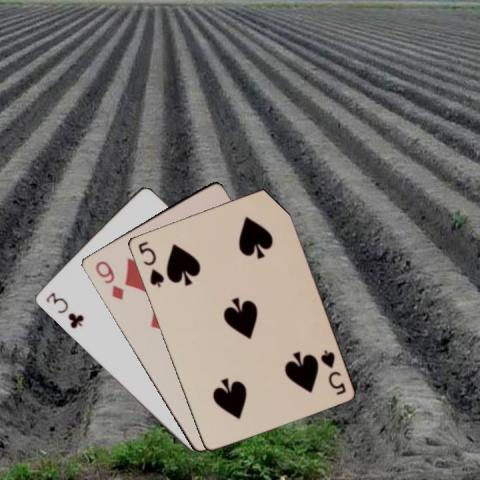3c: (42, 289, 85, 330)
5s: (135, 238, 165, 289), (317, 346, 347, 396)
9d: (92, 258, 125, 301)
